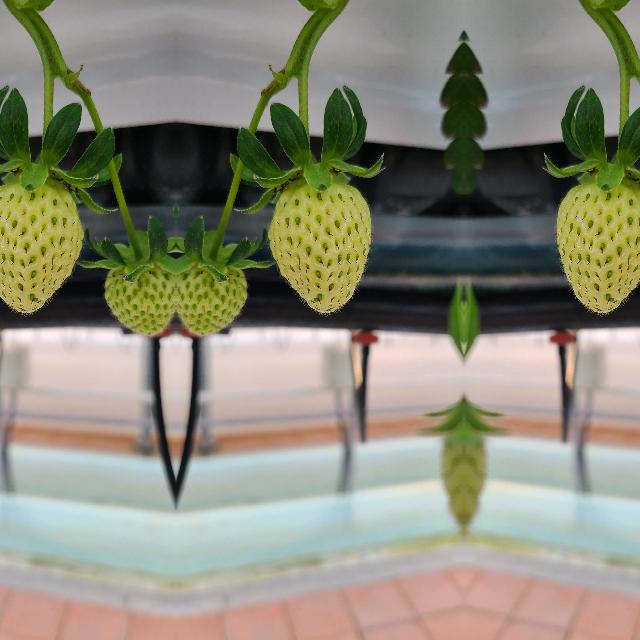Health_25: (266, 180, 370, 312), (556, 180, 640, 311), (0, 180, 83, 311)
